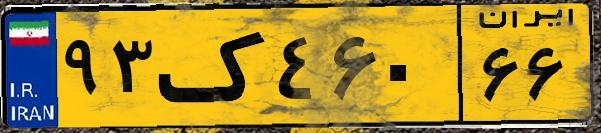0: (385, 28, 445, 110)
3: (110, 28, 158, 98)
4: (270, 28, 330, 110)
6: (330, 28, 385, 110), (475, 38, 525, 113), (525, 38, 570, 115)
9: (57, 26, 110, 100)
ک: (158, 12, 270, 120)
